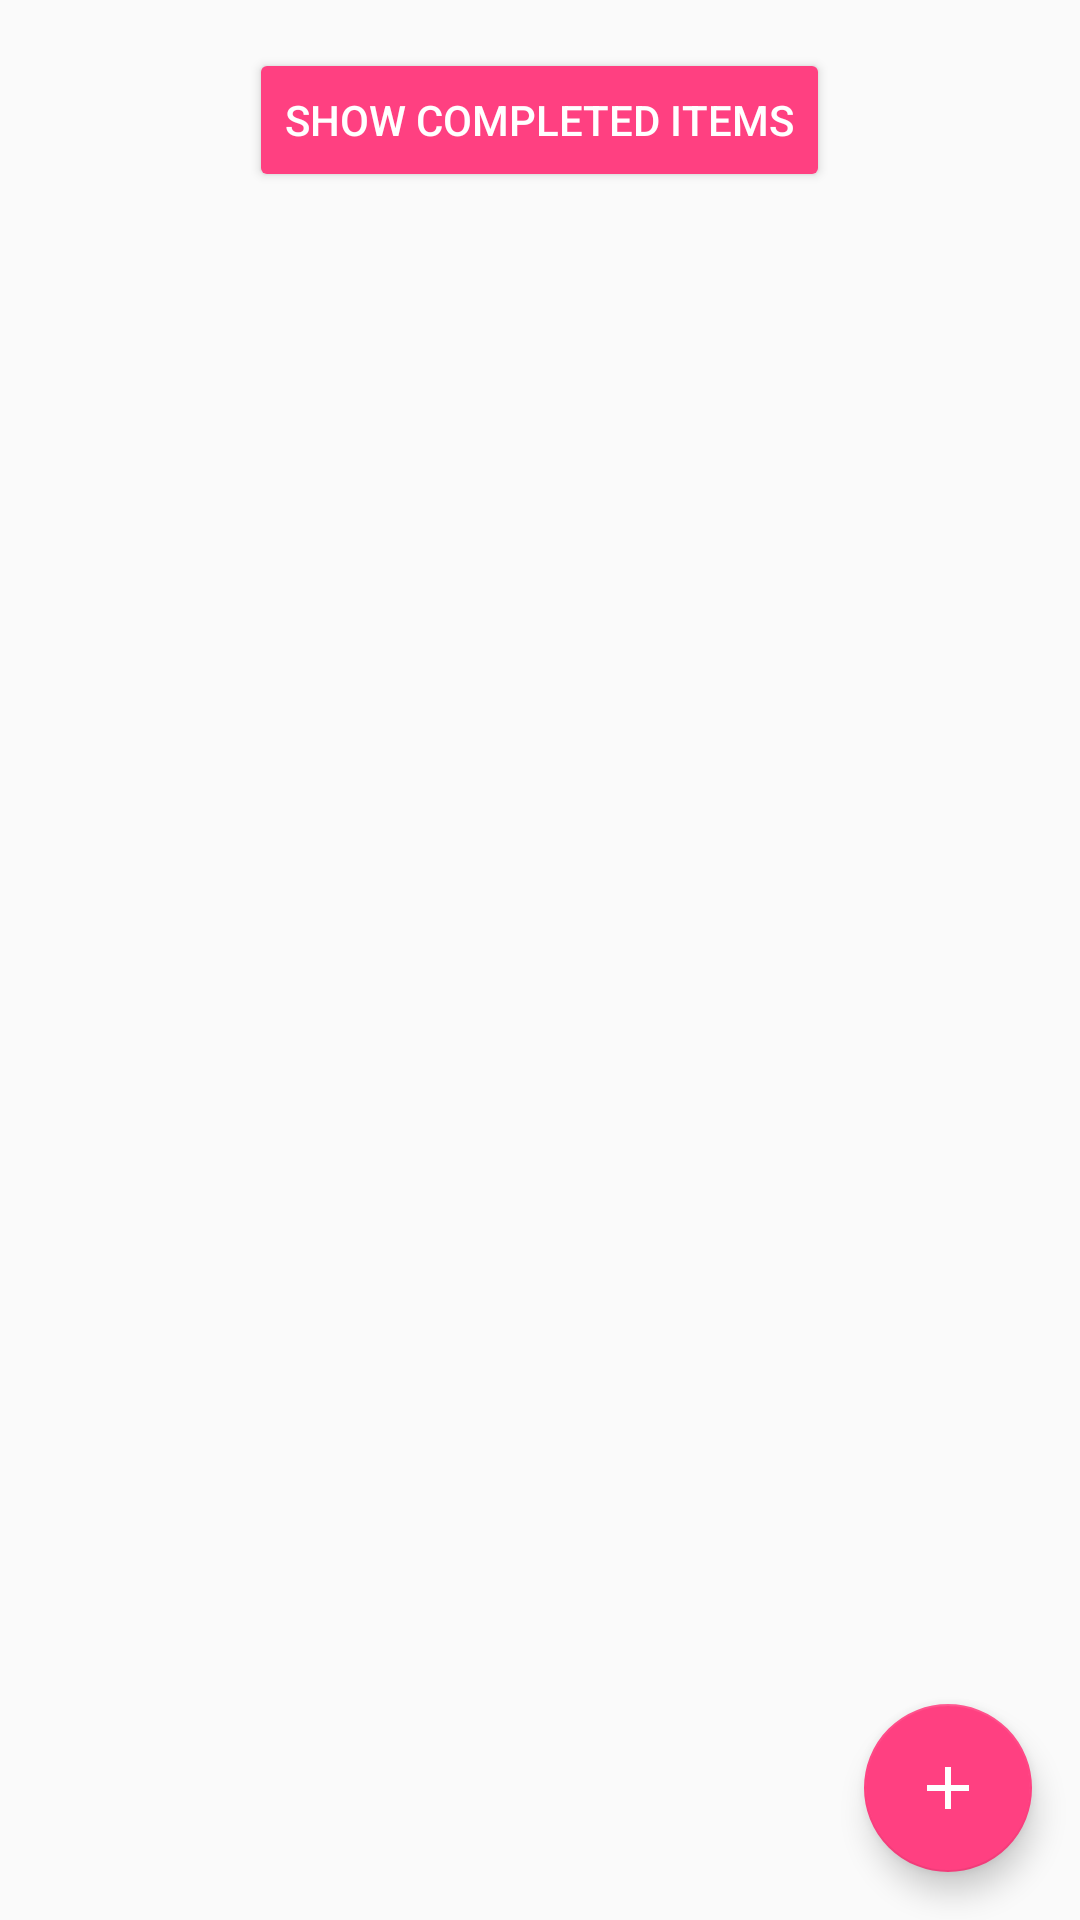

Icons on this 1080 × 1920 Android screen, each with the point to tap as [x,y]:
fab plus: [948,1788]
